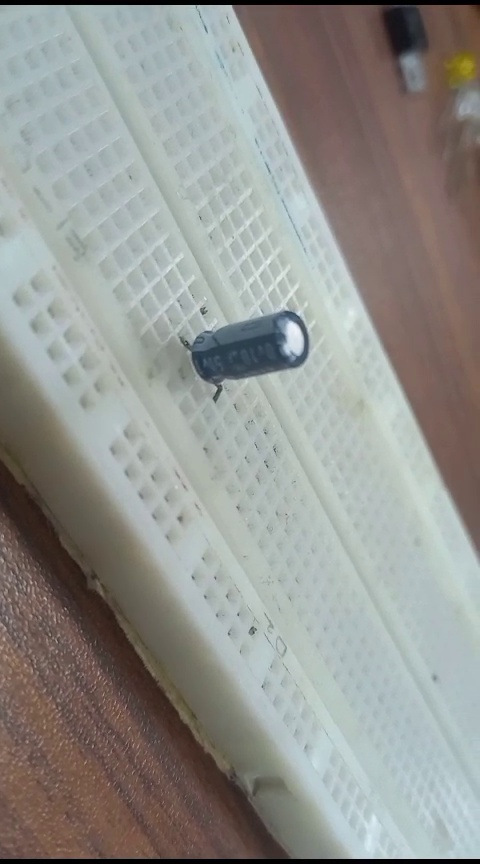capacitor: (170, 303, 316, 403)
